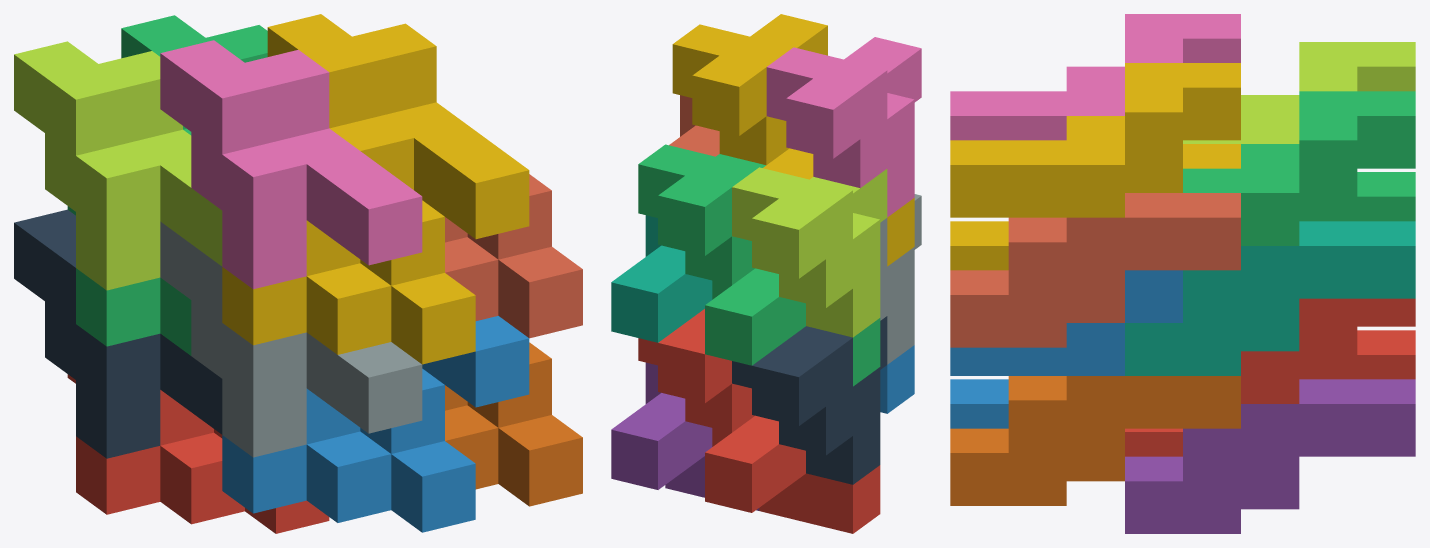
File: tiling.obj
3 views of the same model, side by side, from view 1: azimuth 30°, elevation 25°; view 2: azimuth 150°, elevation 25°; view 3: azimuth 270°, elevation 25° (orthographic). The views are drawn at different scales.
Parts seen in each view (by area): view 1: copy_2_domain_4, copy_2_domain_3, copy_2_domain_8, copy_2_domain_2, copy_1_domain_2, copy_1_domain_4, copy_2_domain_1, copy_1_domain_1, copy_1_domain_8, copy_1_domain_6, copy_1_domain_3, copy_2_domain_6 (+1 smaller); view 2: copy_2_domain_3, copy_2_domain_4, copy_2_domain_1, copy_2_domain_8, copy_1_domain_1, copy_2_domain_7, copy_1_domain_5, copy_1_domain_3, copy_2_domain_5, copy_1_domain_7, copy_2_domain_2, copy_1_domain_4 (+2 smaller); view 3: copy_1_domain_8, copy_2_domain_8, copy_1_domain_5, copy_1_domain_7, copy_1_domain_6, copy_2_domain_7, copy_2_domain_4, copy_2_domain_5, copy_2_domain_6, copy_2_domain_3, copy_1_domain_1, copy_1_domain_4 (+2 smaller).
Part boxes in pixels (left/top/right/bottom): copy_2_domain_4: left=160, top=40, right=422, bottom=289; copy_2_domain_3: left=14, top=41, right=222, bottom=290; copy_2_domain_8: left=267, top=14, right=529, bottom=239; copy_2_domain_2: left=160, top=221, right=422, bottom=457; copy_1_domain_2: left=222, top=368, right=475, bottom=532; copy_1_domain_4: left=222, top=200, right=475, bottom=364; copy_2_domain_1: left=14, top=209, right=222, bottom=458; copy_1_domain_1: left=67, top=374, right=329, bottom=533; copy_1_domain_8: left=445, top=174, right=582, bottom=338; copy_1_domain_6: left=445, top=342, right=582, bottom=506; copy_1_domain_3: left=67, top=206, right=191, bottom=355; copy_2_domain_6: left=422, top=316, right=529, bottom=407; copy_2_domain_3: left=732, top=167, right=887, bottom=337; copy_2_domain_4: left=766, top=37, right=921, bottom=217; copy_2_domain_1: left=732, top=316, right=887, bottom=484; copy_2_domain_8: left=672, top=14, right=827, bottom=165; copy_1_domain_1: left=705, top=415, right=880, bottom=533; copy_2_domain_7: left=638, top=144, right=765, bottom=299; copy_1_domain_5: left=611, top=362, right=759, bottom=510; copy_1_domain_3: left=705, top=268, right=880, bottom=386; copy_2_domain_5: left=638, top=309, right=754, bottom=446; copy_1_domain_7: left=611, top=215, right=712, bottom=342; copy_2_domain_2: left=880, top=194, right=921, bottom=364; copy_1_domain_4: left=763, top=148, right=914, bottom=266; copy_1_domain_8: left=950, top=193, right=1240, bottom=347; copy_2_domain_8: left=950, top=63, right=1240, bottom=217; copy_1_domain_5: left=1125, top=379, right=1415, bottom=533; copy_1_domain_7: left=1125, top=221, right=1415, bottom=375; copy_1_domain_6: left=950, top=376, right=1240, bottom=505; copy_2_domain_7: left=1183, top=91, right=1415, bottom=245; copy_2_domain_4: left=950, top=14, right=1240, bottom=140; copy_2_domain_5: left=1241, top=298, right=1415, bottom=403; copy_2_domain_6: left=950, top=270, right=1182, bottom=375; copy_2_domain_3: left=1183, top=42, right=1415, bottom=143; copy_1_domain_1: left=1125, top=330, right=1415, bottom=456; copy_1_domain_4: left=950, top=144, right=1240, bottom=270.
Size of the model in its own units: 6 by 8 by 8.
